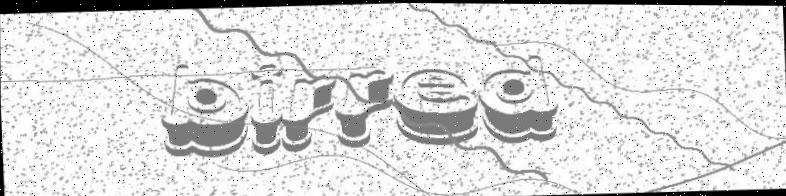b: (158, 59, 248, 158)
d: (478, 52, 560, 144)
e: (392, 65, 480, 147)
i: (249, 60, 282, 154)
r: (333, 67, 396, 149), (278, 74, 341, 154)
